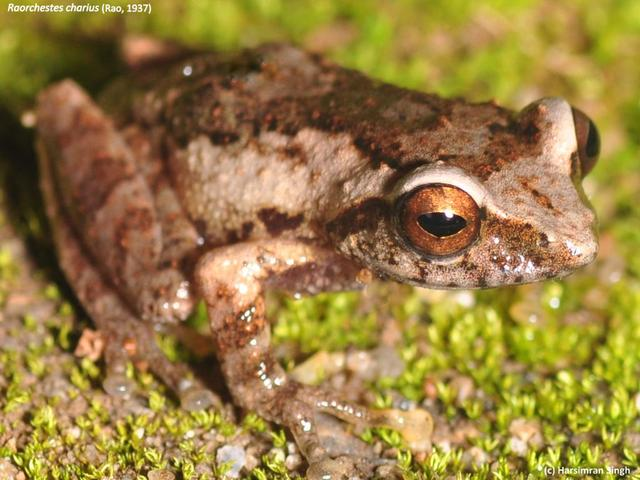frog: (14, 29, 630, 472)
